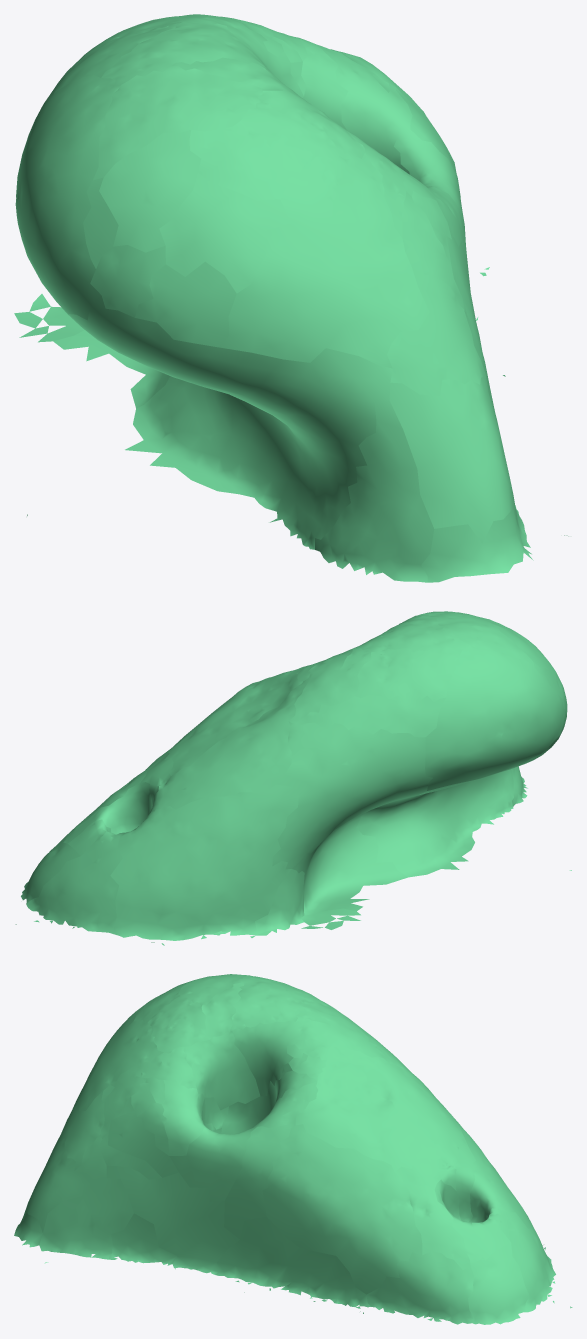
Rendered from test-green-clean.glb.
The picture shows the model from 3 angles, top to bottom: view 1: azimuth 30°, elevation 25°; view 2: azimuth 150°, elevation 25°; view 3: azimuth 270°, elevation 25°; orthographic projection. The views are drawn at different scales.
Parts seen in each view (by area): view 1: HoldMesh; view 2: HoldMesh; view 3: HoldMesh.
Part boxes in pixels (left/top/right/bottom): HoldMesh: left=14, top=14, right=568, bottom=582; HoldMesh: left=15, top=611, right=571, bottom=945; HoldMesh: left=14, top=974, right=572, bottom=1324.
Bounding box in the file's own units: 0.1007 × 0.0579 × 0.1324.
